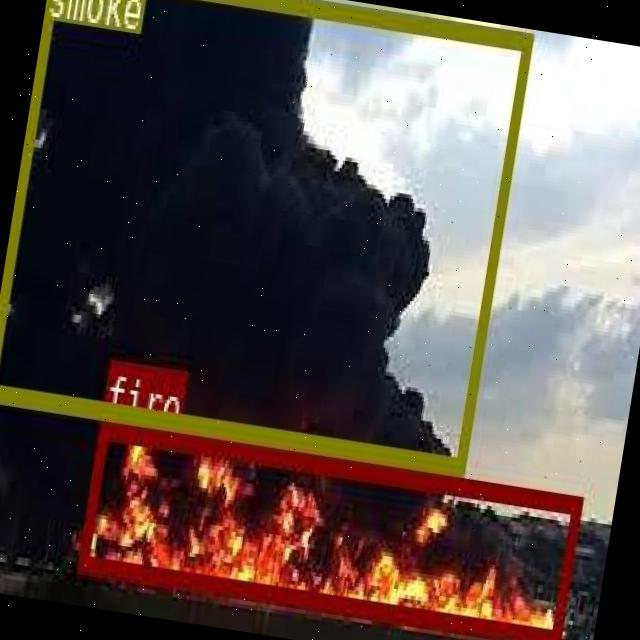fire: (76, 419, 581, 640)
smoke: (0, 0, 531, 474)
